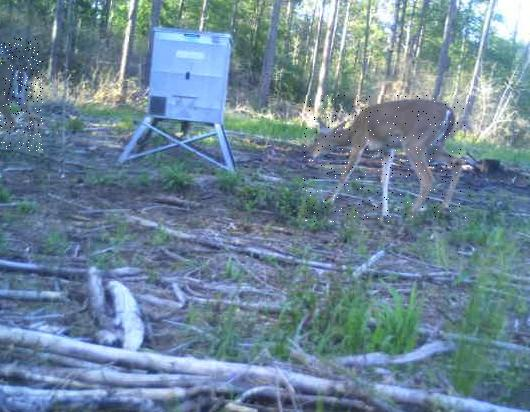Deer: (303, 96, 471, 223), (0, 38, 43, 151)
